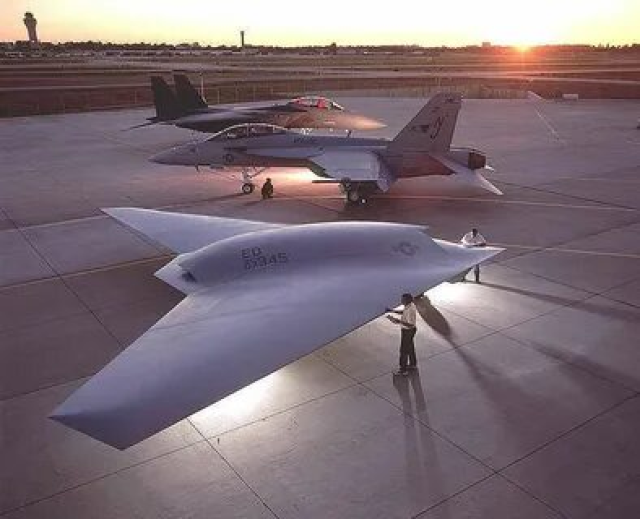airplane: (147, 91, 504, 204), (119, 74, 391, 138)
military drone: (44, 207, 506, 452)
